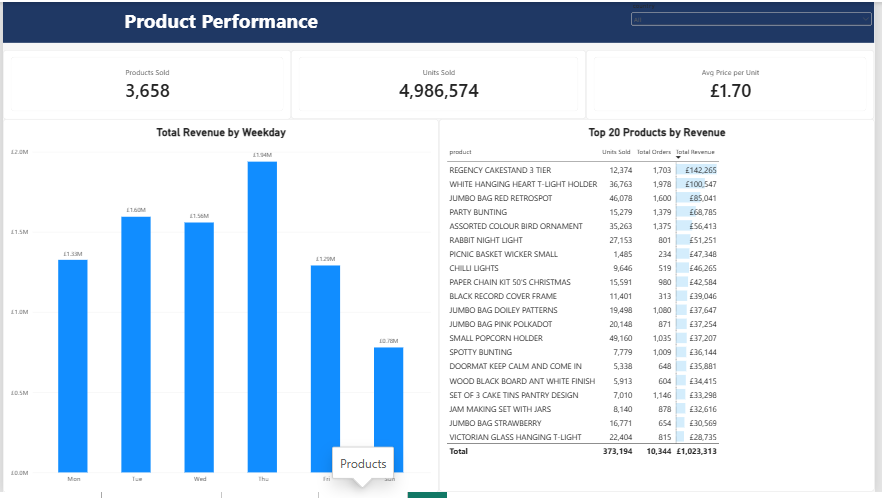

The dashboard page shown, as its layout file describes it:
{"tool":"powerbi","page":{"name":"Products","canvas":[1920,1080],"ordinal":2},"visuals":[{"type":"shape","box":[0,0,1920,90],"z":0},{"type":"slicer","fields":{"Values":["dim_customer.country"]},"box":[1379.8,0,540,105.8],"z":1000},{"type":"cardVisual","fields":{"Data":["fact_sales.Products Sold"]},"box":[0,105,635,152.5],"z":2000},{"type":"cardVisual","fields":{"Data":["fact_sales.Units Sold"]},"box":[634.8,105.8,650.2,152.1],"z":3000},{"type":"cardVisual","fields":{"Data":["fact_sales.Avg Price per Unit"]},"box":[1285,105.8,635,152.5],"z":4000},{"type":"clusteredColumnChart","fields":{"Category":["dim_date.Weekday"],"Y":["fact_sales.Total Revenue"]},"box":[0,257,960,823.9],"z":5000},{"type":"tableEx","title":"Top 20 Products by Revenue","fields":{"Values":["dim_product.product","fact_sales.Units Sold","fact_sales.Total Orders","fact_sales.Total Revenue"]},"box":[960,257,960,821.4],"z":6000},{"type":"textbox","box":[30,12,900,66],"z":7000}]}

Visuals, with their boxes in screenshot pixels (x1, y1, x2, y2), scaled from the page's 1920x1080 canvas onto the 882x498 screenshot:
shape: {"x1": 0, "y1": 0, "x2": 881, "y2": 42}
slicer - dim_customer.country: {"x1": 634, "y1": 0, "x2": 881, "y2": 49}
cardVisual - fact_sales.Products Sold: {"x1": 0, "y1": 48, "x2": 292, "y2": 119}
cardVisual - fact_sales.Units Sold: {"x1": 292, "y1": 49, "x2": 590, "y2": 119}
cardVisual - fact_sales.Avg Price per Unit: {"x1": 590, "y1": 49, "x2": 881, "y2": 119}
clusteredColumnChart - dim_date.Weekday x fact_sales.Total Revenue: {"x1": 0, "y1": 119, "x2": 441, "y2": 497}
"Top 20 Products by Revenue" tableEx: {"x1": 441, "y1": 119, "x2": 881, "y2": 497}
textbox: {"x1": 14, "y1": 6, "x2": 427, "y2": 36}
